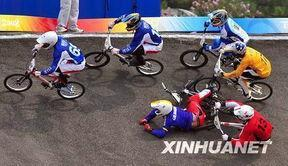Fall-Detected: (136, 83, 211, 136)
